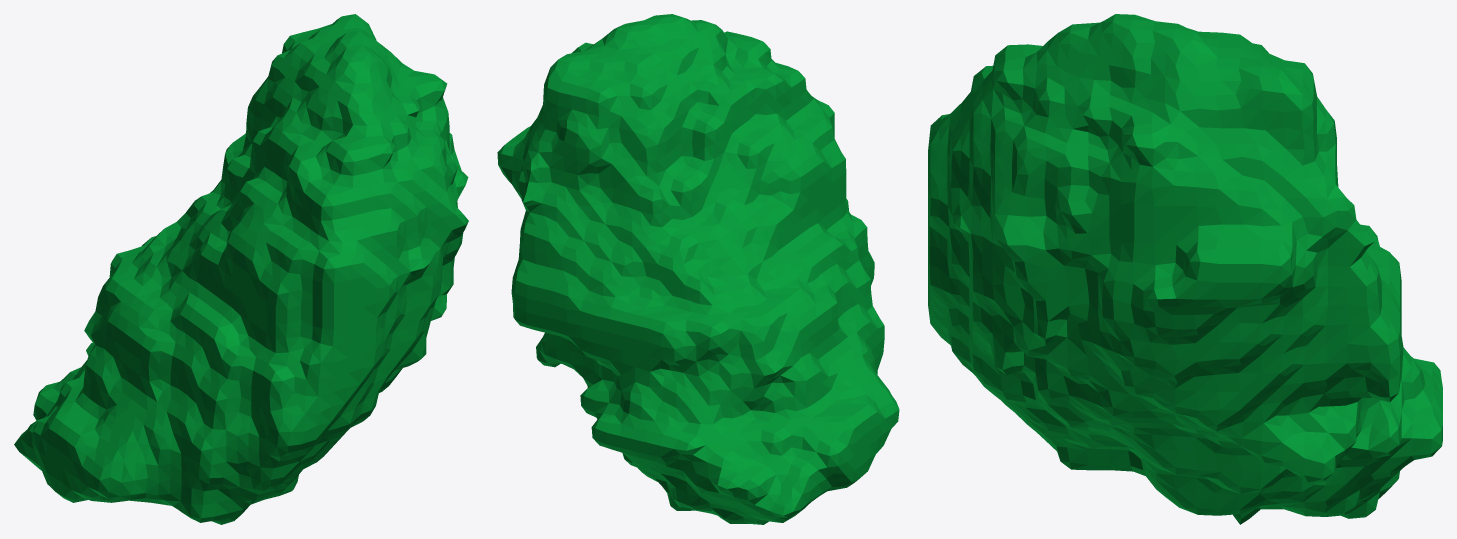
File: aseg_010_Left-Thalamus.glb
3 renders of one model, left to right at view 1: azimuth 30°, elevation 25°; view 2: azimuth 150°, elevation 25°; view 3: azimuth 270°, elevation 25°, orthographic. The views are drawn at different scales.
Size of the model in its own units: 26 by 29 by 23.92.
